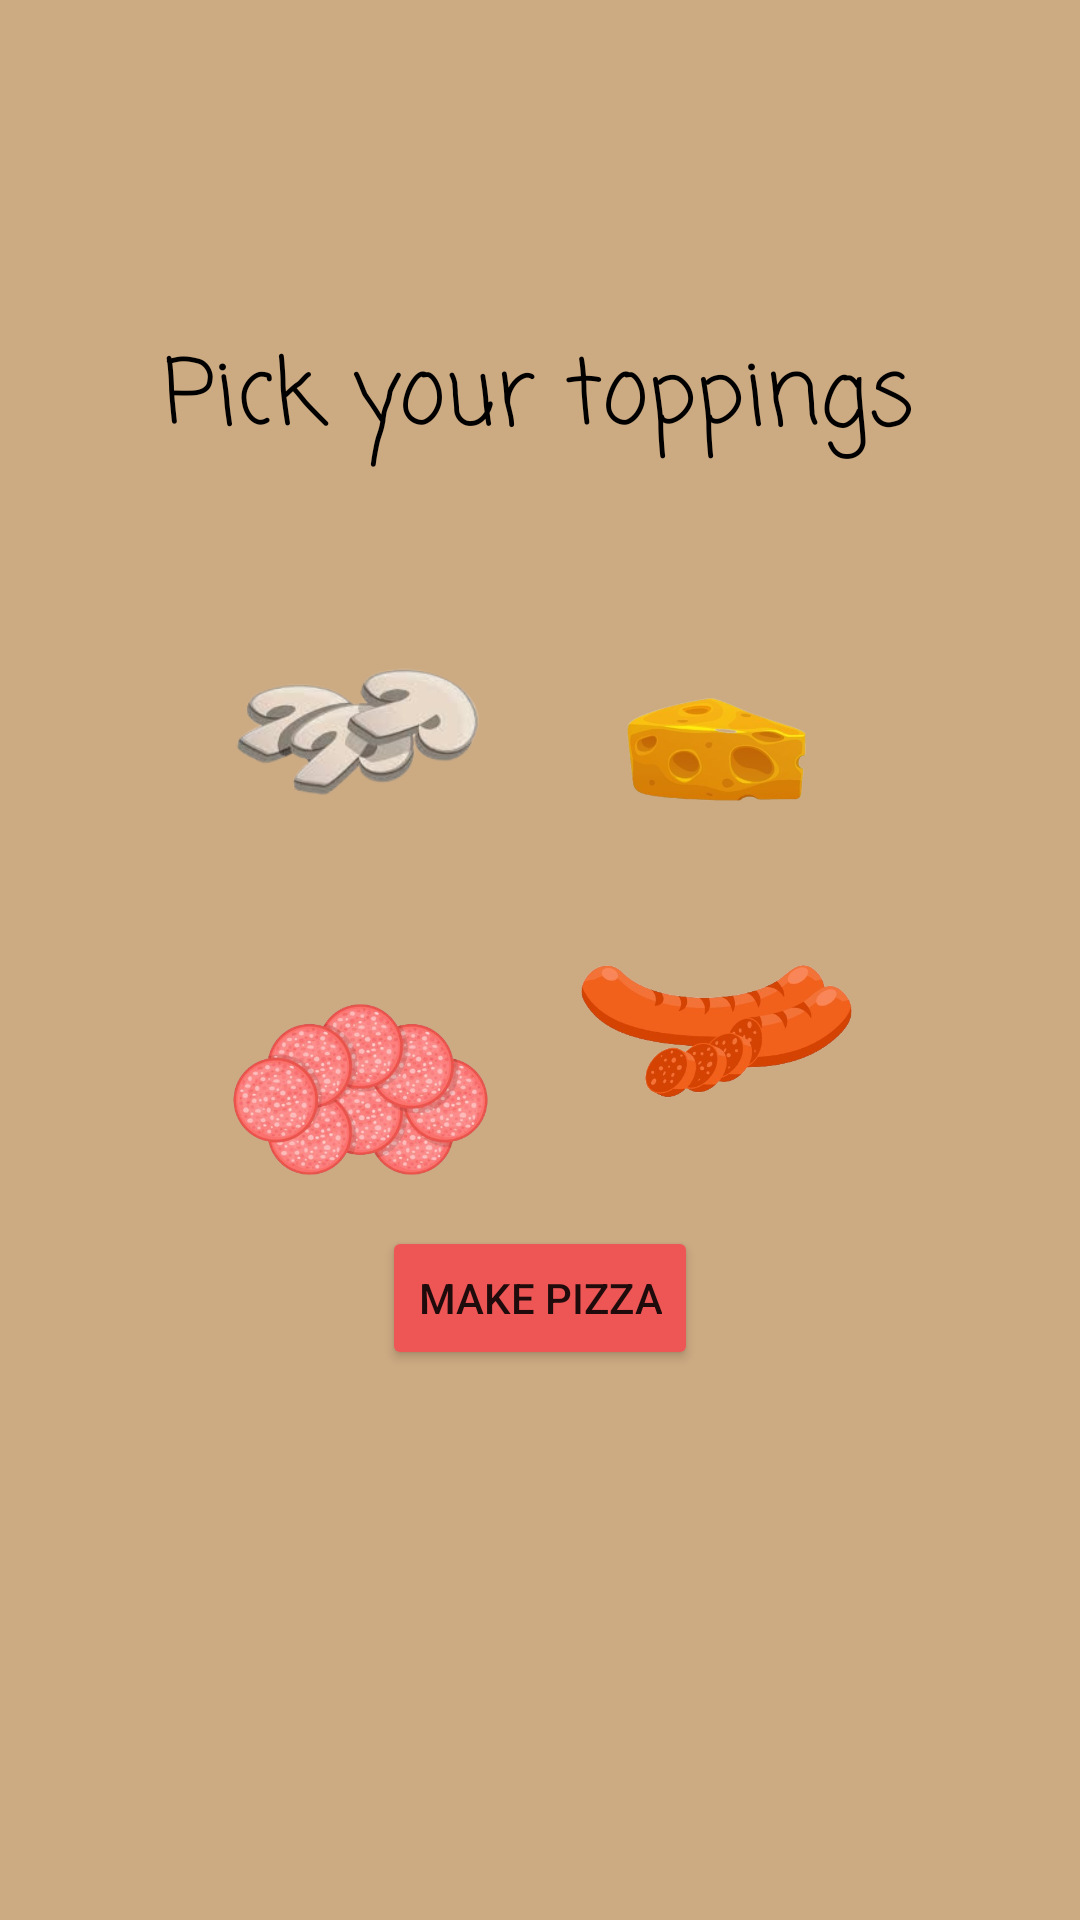

Icons on this 1080 x 1920 Android screen, each with its box as (x1, y1, x2, y2):
cheese: (627, 698, 806, 801)
mushrooms: (238, 670, 478, 794)
pepperoni: (233, 1004, 488, 1175)
sausage: (581, 965, 852, 1097)
